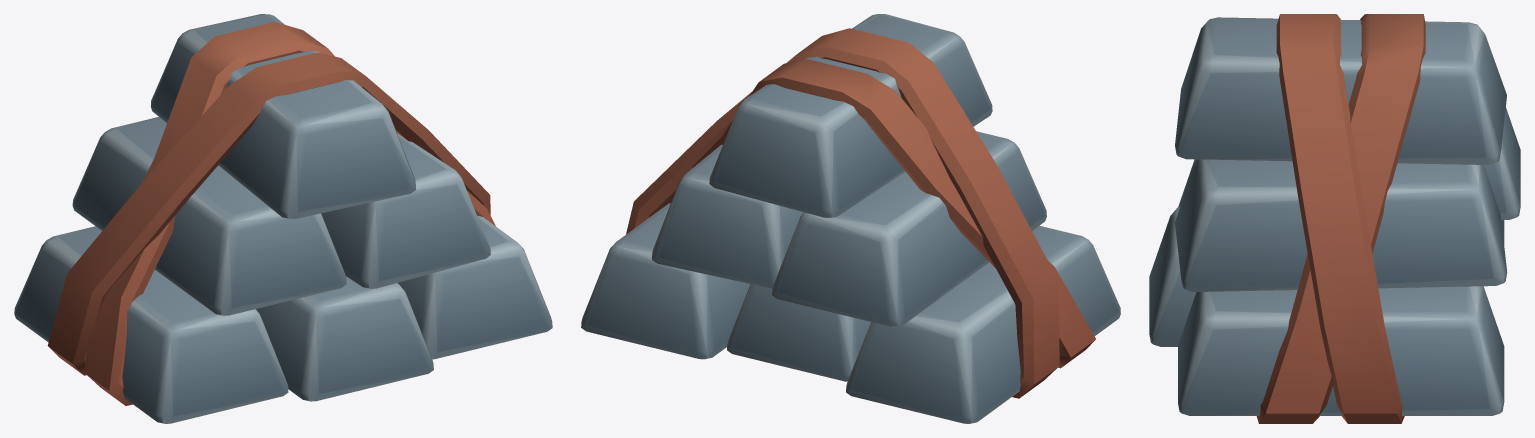
The model's file is Iron_Bars.glb.
3 views of the same model, side by side, from view 1: azimuth 30°, elevation 25°; view 2: azimuth 150°, elevation 25°; view 3: azimuth 270°, elevation 25° (orthographic). The views are drawn at different scales.
Parts seen in each view (by area): view 1: Iron_Bars; view 2: Iron_Bars; view 3: Iron_Bars.
Boxes of the visible parts, x1=… form: Iron_Bars: x1=14, y1=14, x2=552, y2=423; Iron_Bars: x1=581, y1=14, x2=1120, y2=423; Iron_Bars: x1=1149, y1=14, x2=1520, y2=423.
Bounding box in the file's own units: 1.27 × 0.7897 × 0.9106.
1 material, 1 textured.
